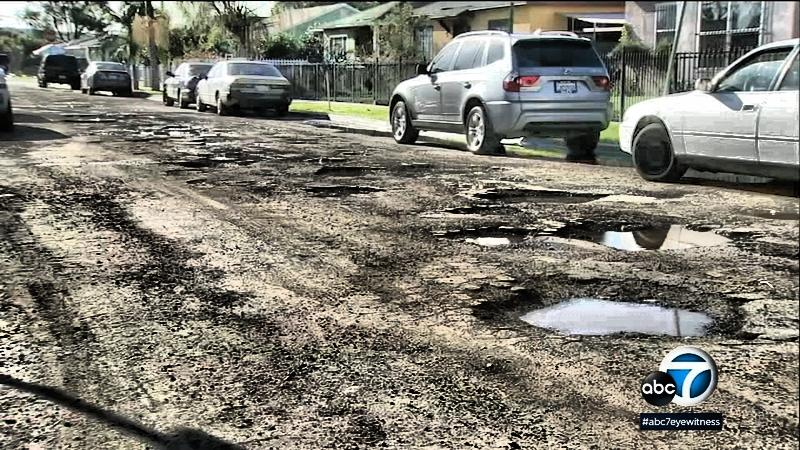pothole: (476, 283, 738, 346), (549, 215, 733, 258), (468, 182, 618, 210), (440, 223, 527, 252), (305, 181, 379, 198), (751, 208, 800, 221)
